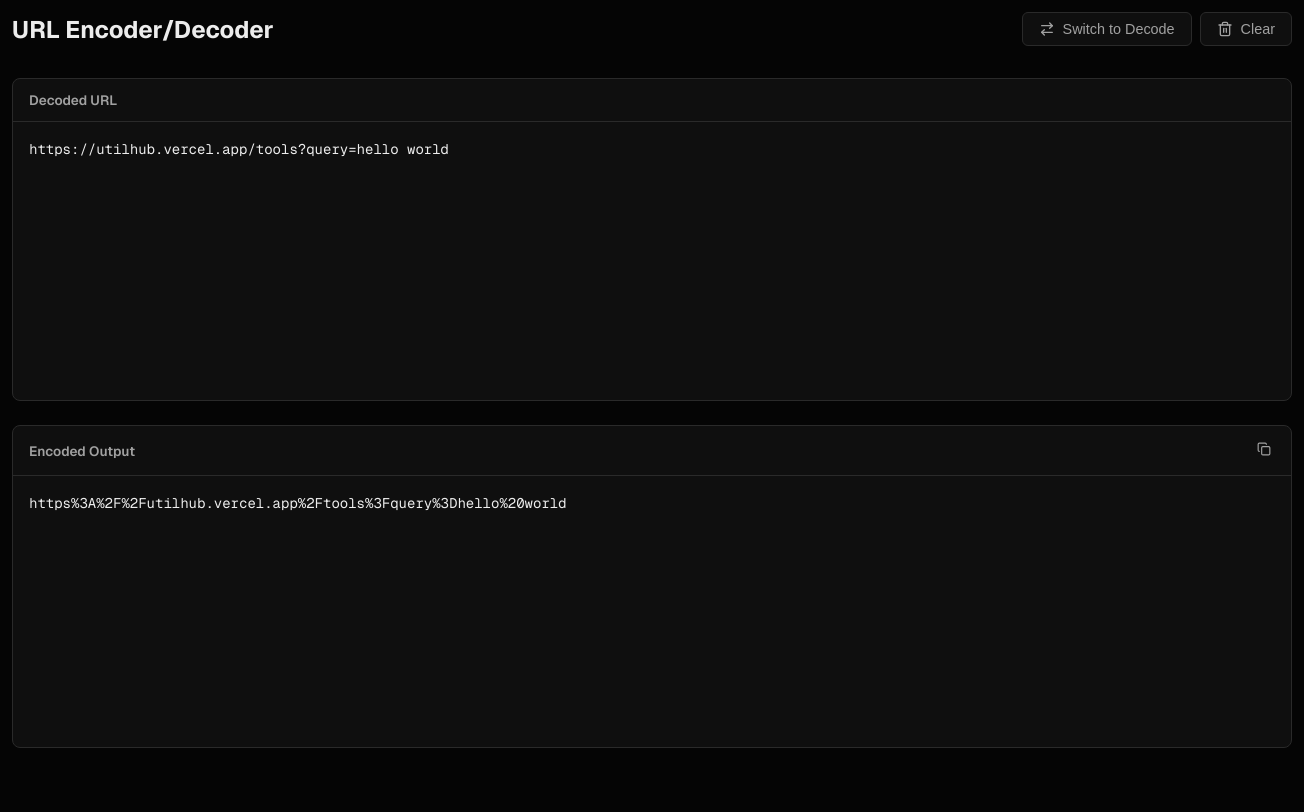
Test: UrlTool › encodes a URL
The image size is (1304, 812).
Replace the text in the text box with placeholder "Paste URL to encode..." below "Decoded URL" with "hello world" at (652, 261), box [13, 122, 1291, 400]
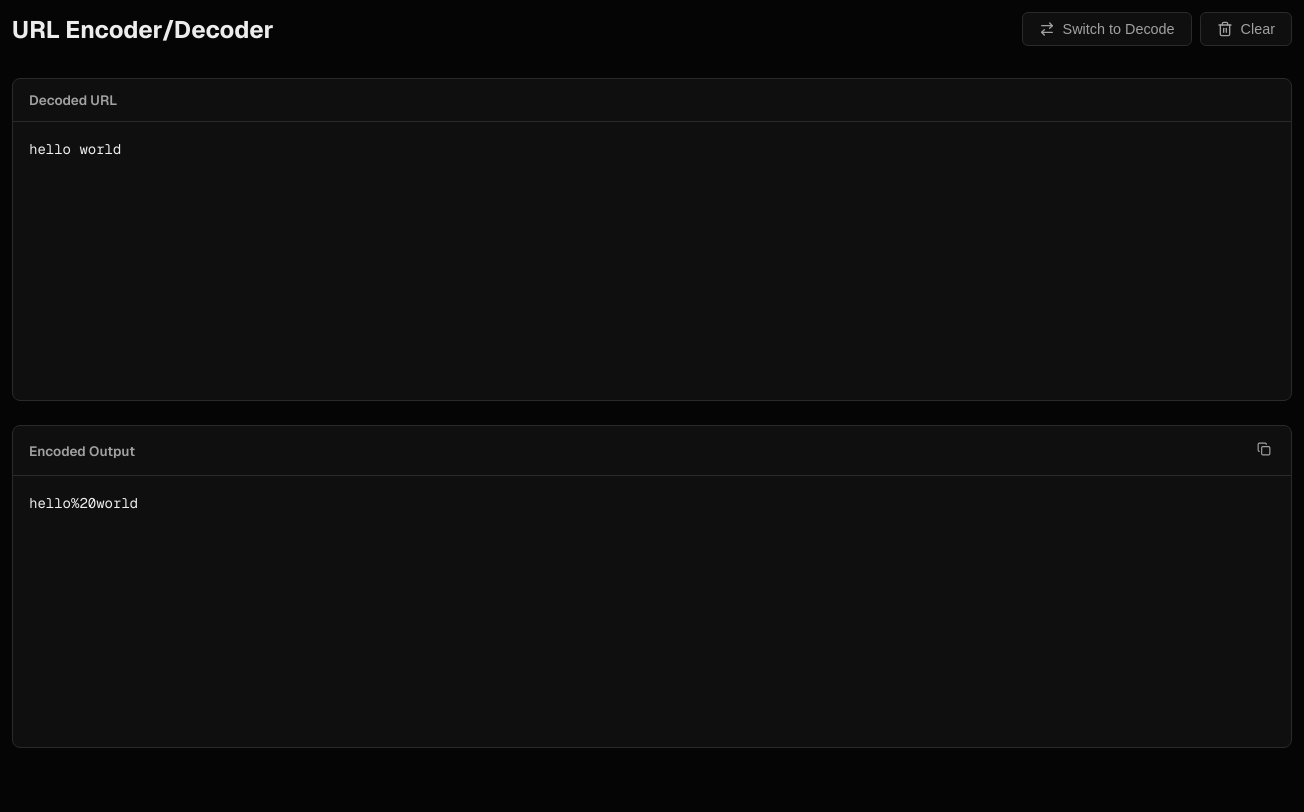
Now the text box with placeholder "Result will appear here..." below "Encoded Output" holds "hello%20world", box [13, 476, 1291, 747]
